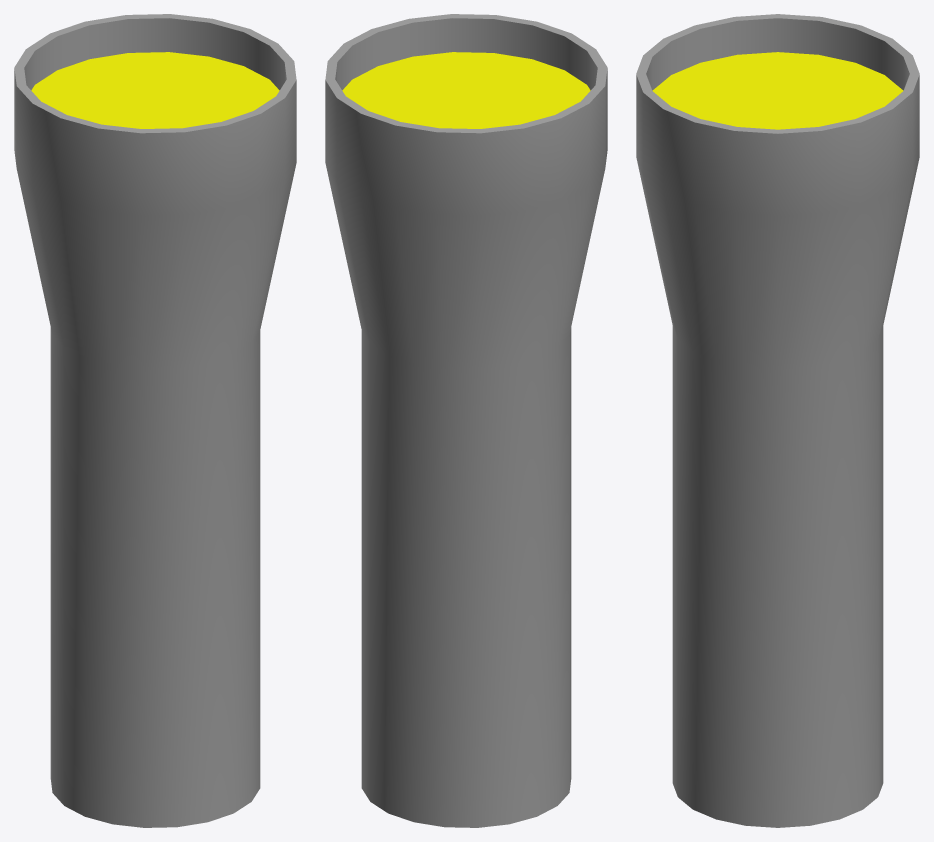
The model's file is flashlight.fbx.
3 renders of one model, left to right at view 1: azimuth 30°, elevation 25°; view 2: azimuth 150°, elevation 25°; view 3: azimuth 270°, elevation 25°, orthographic.
Visible parts, largest first — view 1: pCylinder1; view 2: pCylinder1; view 3: pCylinder1.
Part boxes in pixels (box(x1,y1,x2,y2)): pCylinder1: box(14, 14, 296, 827); pCylinder1: box(325, 14, 607, 827); pCylinder1: box(636, 14, 919, 827).
Bounding box in the file's own units: 0.1895 × 0.5231 × 0.1895.
